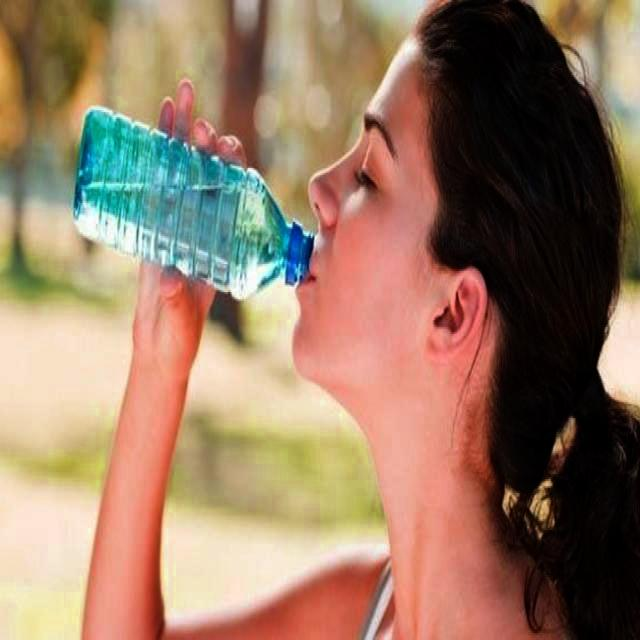bottle: (71, 106, 314, 301)
